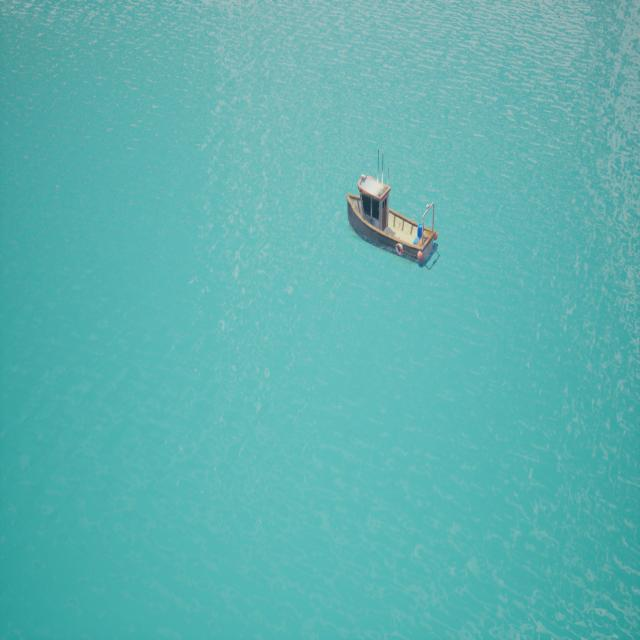ship: (347, 170, 443, 268)
